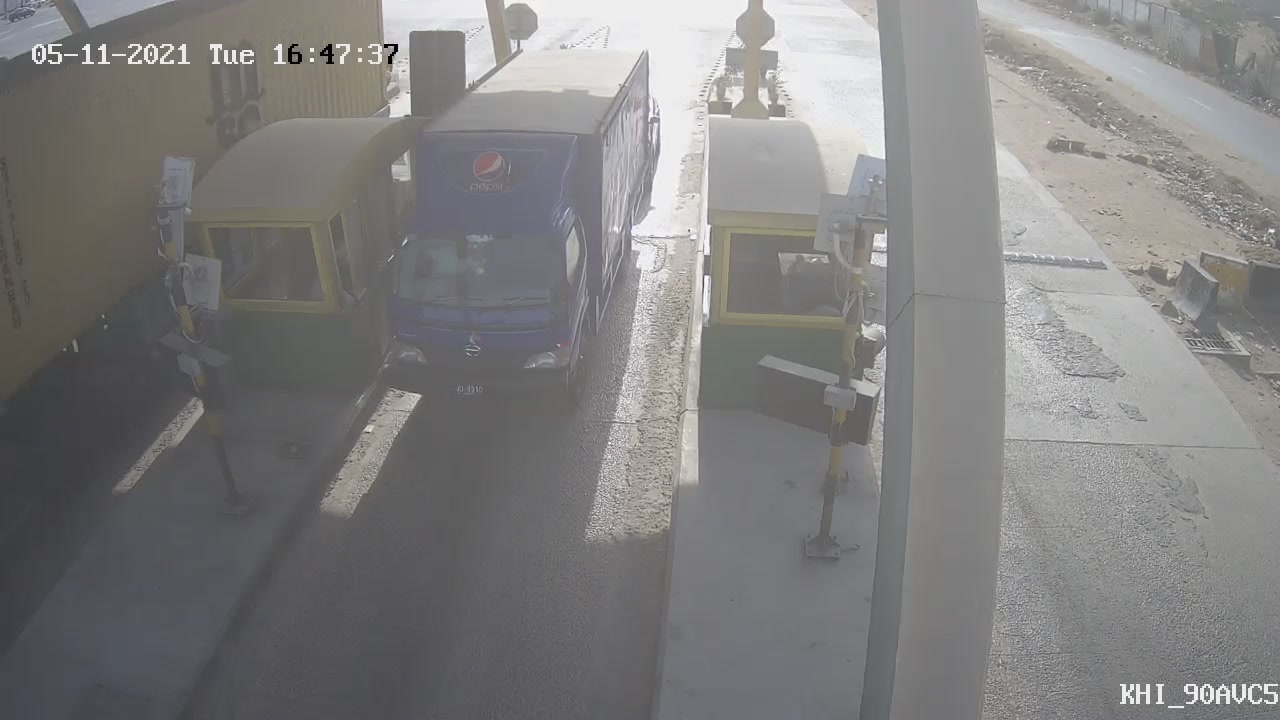F5: (312, 29, 691, 433)
